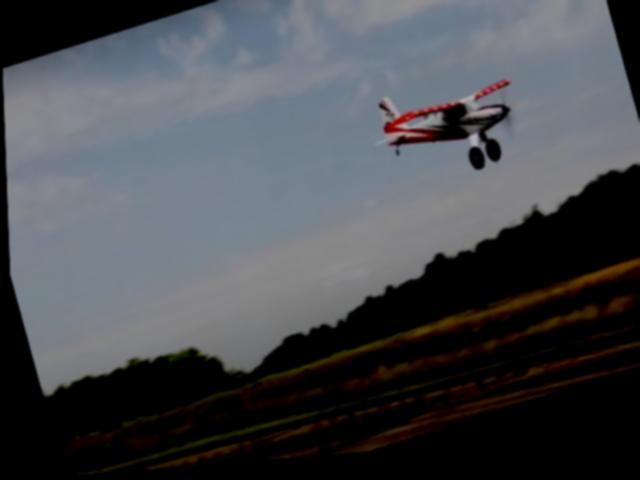uav: (356, 61, 537, 217)
